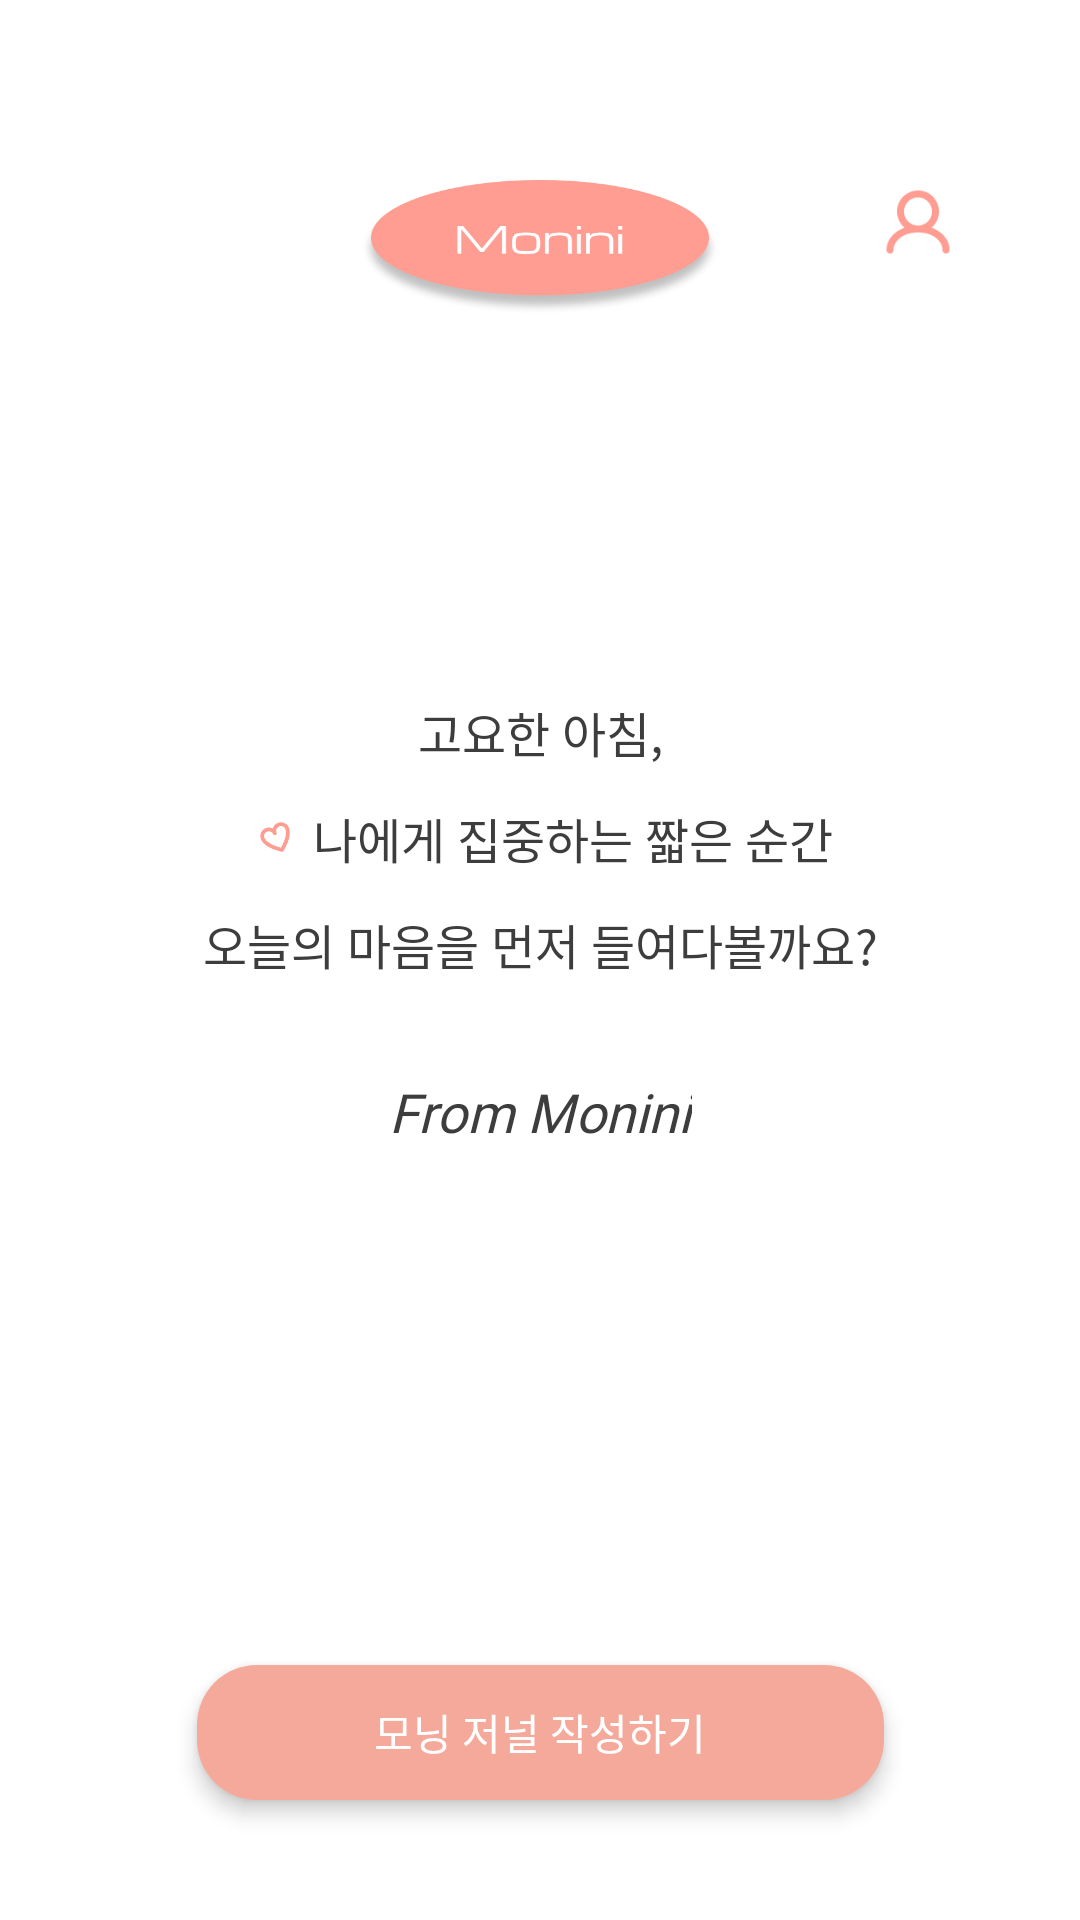

Icons on this 1080w x 1920h Android screen, each with the point to tap as [x,y]:
heart: [275,837]
user: [918,222]
